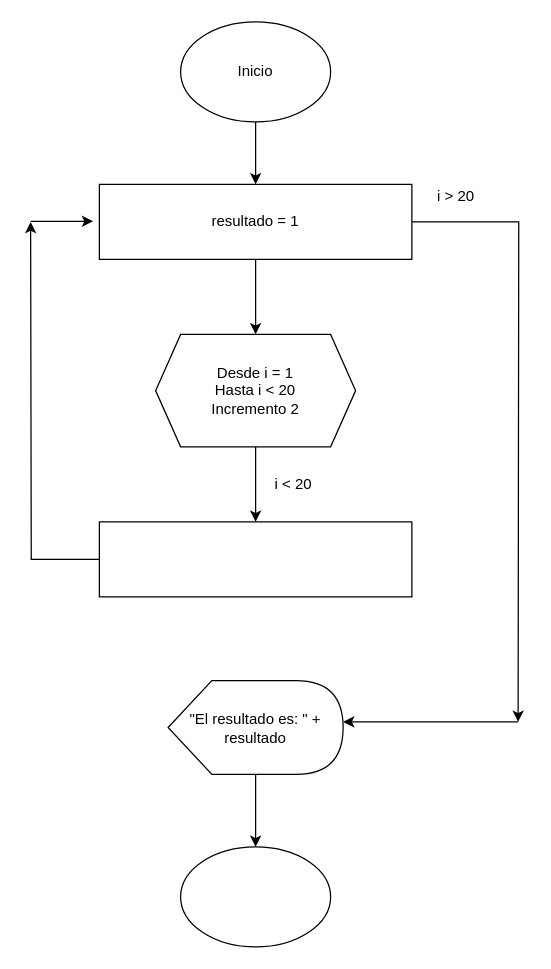
This 551x969 diagram has some shape labels left out. Here are the shapes that lost their labels. From the top down, the box of each, then its label:
(98, 521, 412, 597): resultado = resultado * i
(179, 846, 331, 947): Fin
